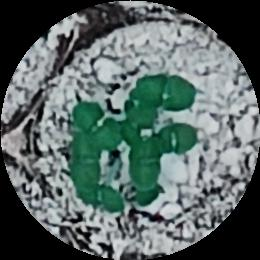Basil: (134, 72, 200, 108), (74, 103, 121, 148), (72, 133, 101, 191), (81, 179, 124, 215), (129, 140, 159, 189), (126, 85, 158, 128), (160, 123, 197, 154)
